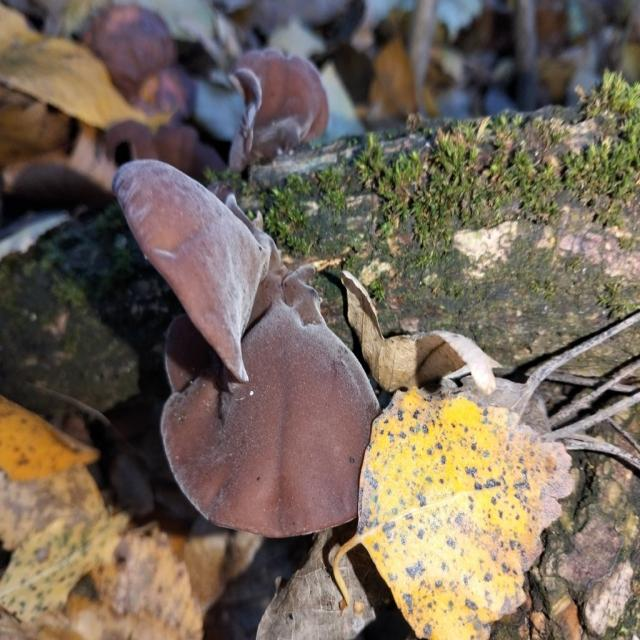Matang: (158, 318, 396, 542), (102, 158, 283, 357), (226, 48, 350, 181)
